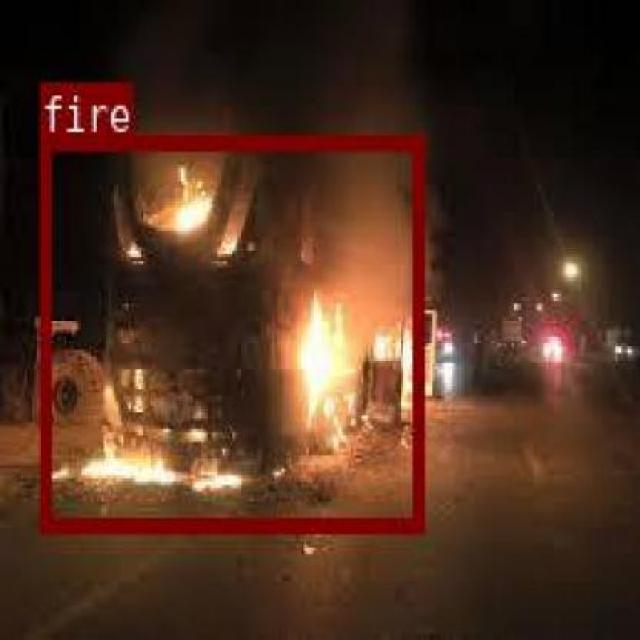Fire: (38, 133, 422, 530)
